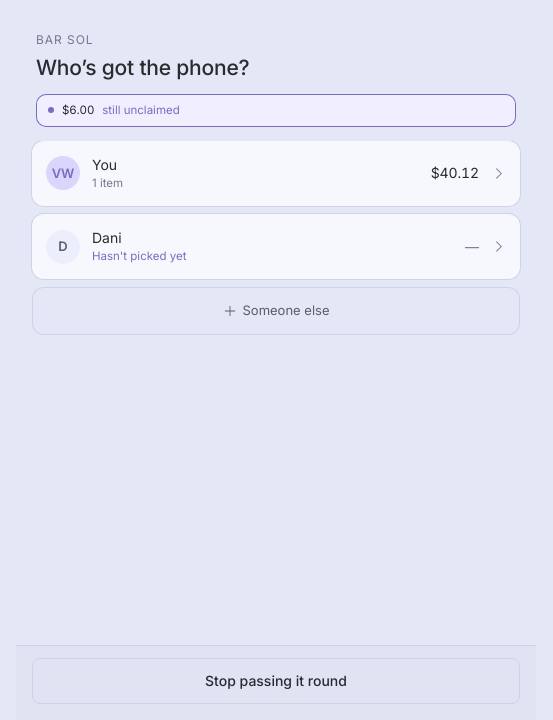
Test: TabPassPage — a turn › names whoever is holding the phone, unmissably
This screenshot has width=553, height=720.
Click the button "D Dani Hasn't picked yet —": (63, 247) [32,214,520,279]
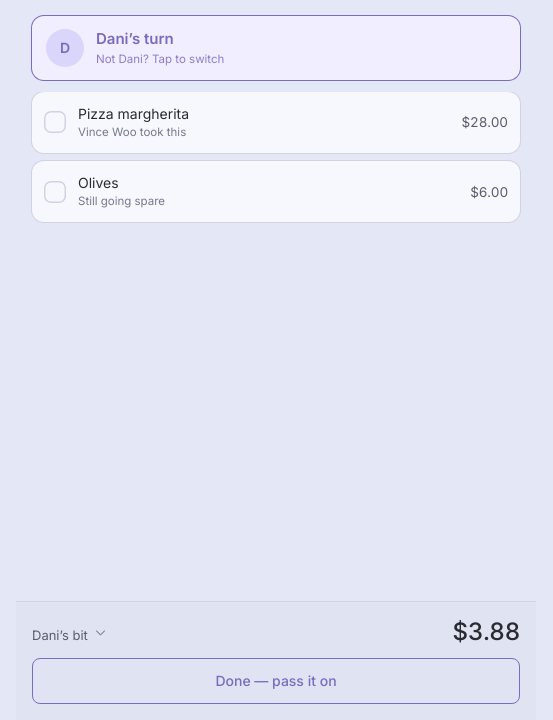
Now the text "Not Dani? Tap to switch" is shown, box [96,52,224,66]
